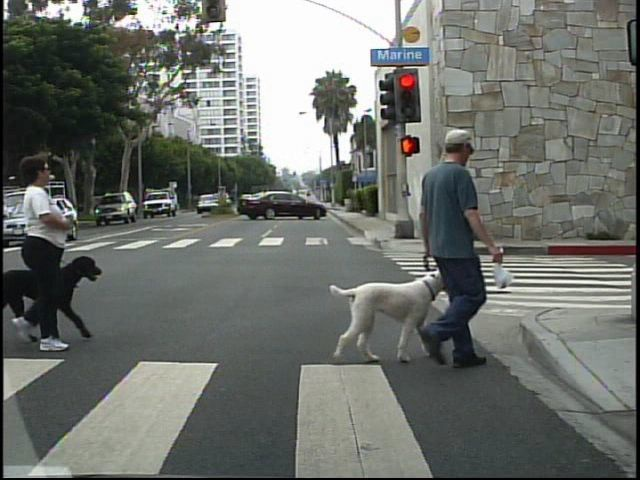person: (395, 115, 505, 374), (14, 152, 79, 356)
